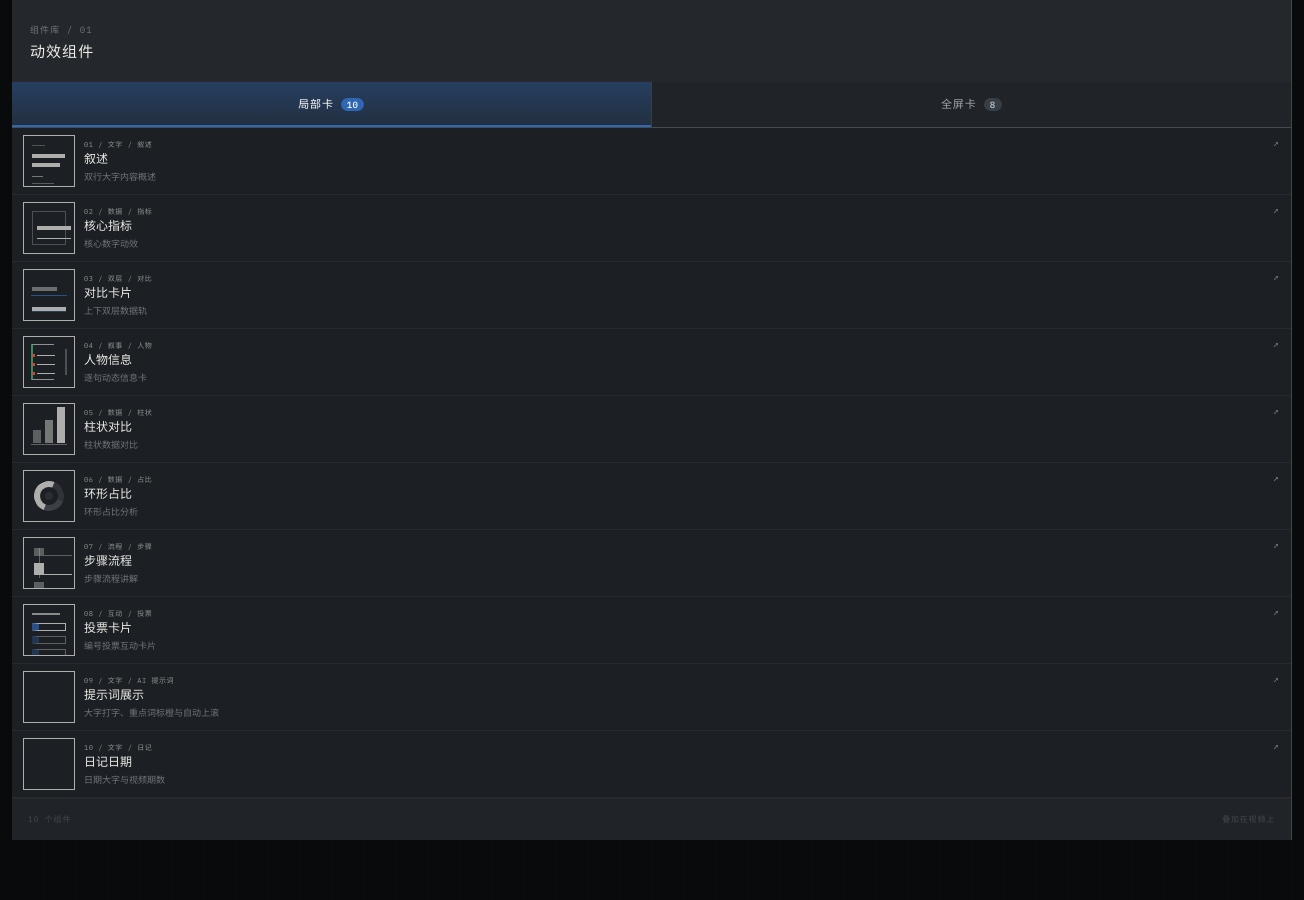
it: ComponentRail › switches to the fullscreen-card tab and lists the eight fullscreen cards
The image size is (1304, 900).
Click the tab "全屏卡 8" at x=971, y=104, box [652,82,1291,127]
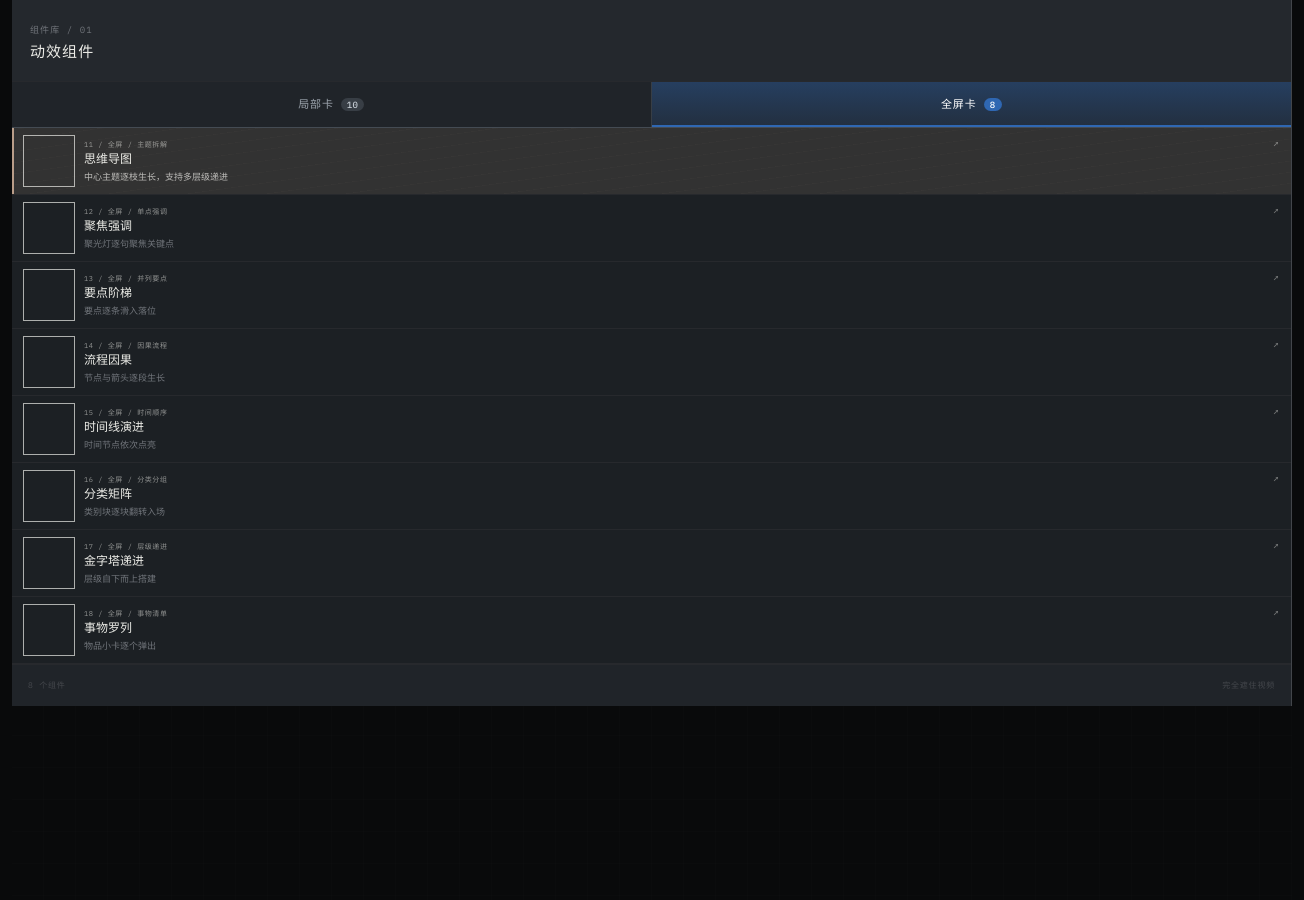
Now the text "8 个组件" is shown, box [28,680,66,691]
Now the button with aria-label "选择组件思维导图" is shown, box [12,128,1291,194]
Now the button with aria-label "选择组件事物罗列" is shown, box [12,597,1291,663]
